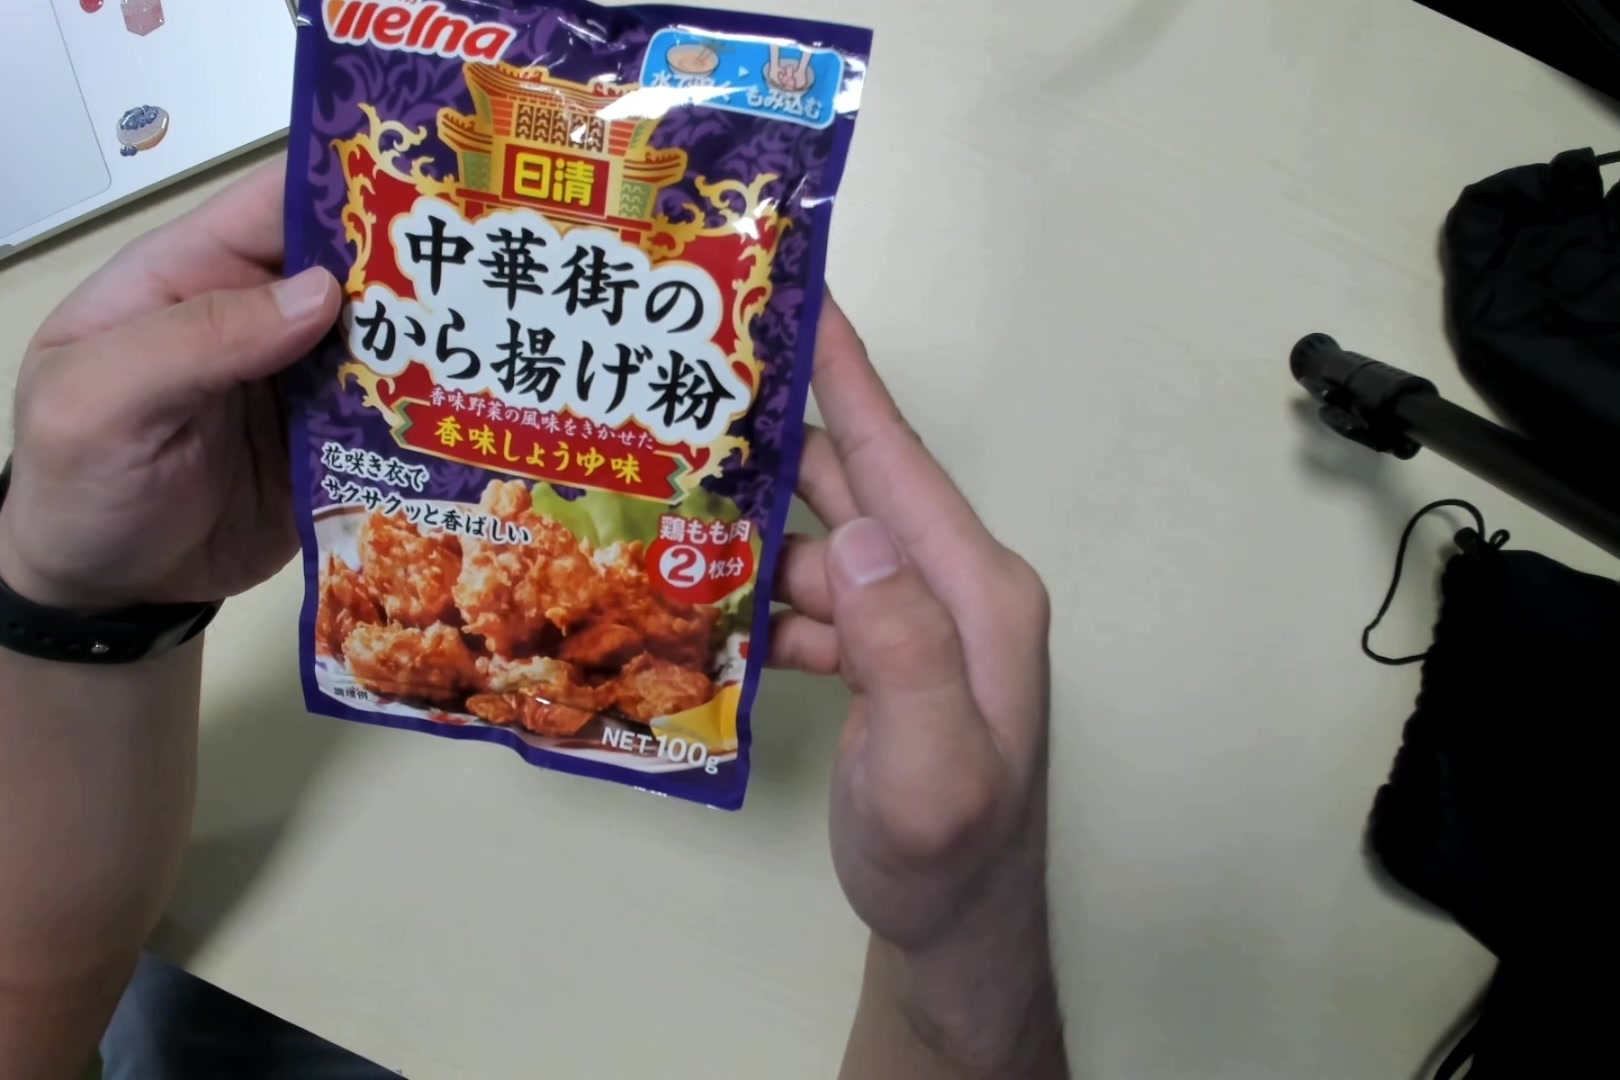OtherBakingNeeds_100-199g_NonHalal_NonHealthy: (284, 2, 873, 808)
